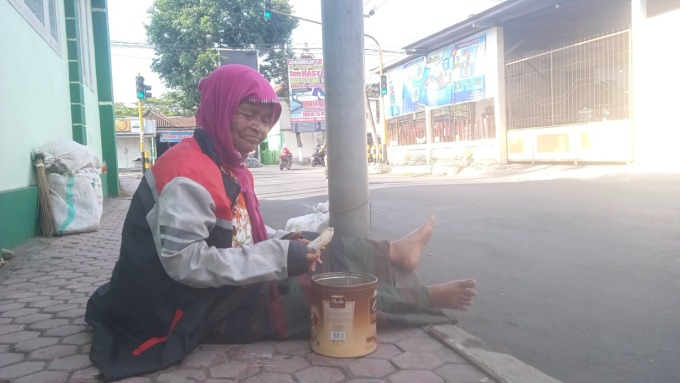gelandangan: (83, 60, 475, 358)
